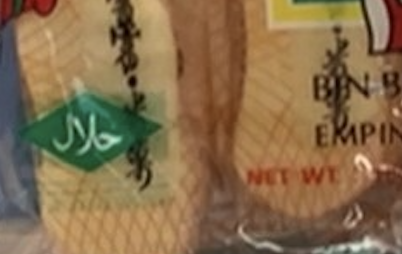halal: (57, 119, 120, 154)
